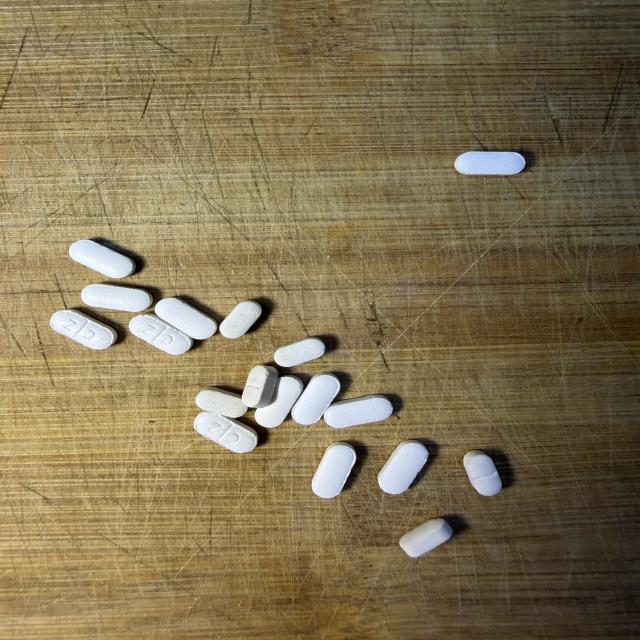pill: (378, 440, 428, 494), (50, 310, 117, 349), (194, 412, 257, 453), (155, 298, 217, 339), (129, 314, 192, 354), (69, 240, 135, 278), (255, 376, 303, 428), (312, 442, 356, 498), (292, 373, 340, 424), (324, 395, 392, 428), (400, 518, 452, 557), (81, 284, 152, 312), (464, 450, 502, 496), (455, 152, 525, 175), (220, 300, 262, 338), (196, 387, 247, 417), (274, 337, 325, 367), (242, 366, 277, 407)
